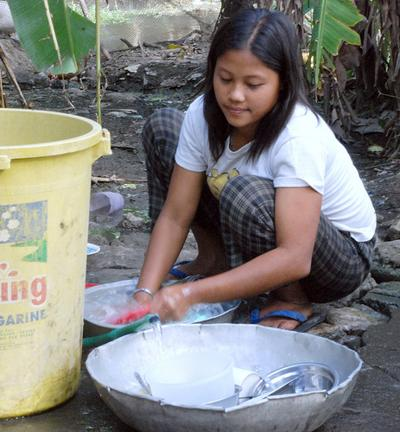person: (126, 1, 378, 333)
